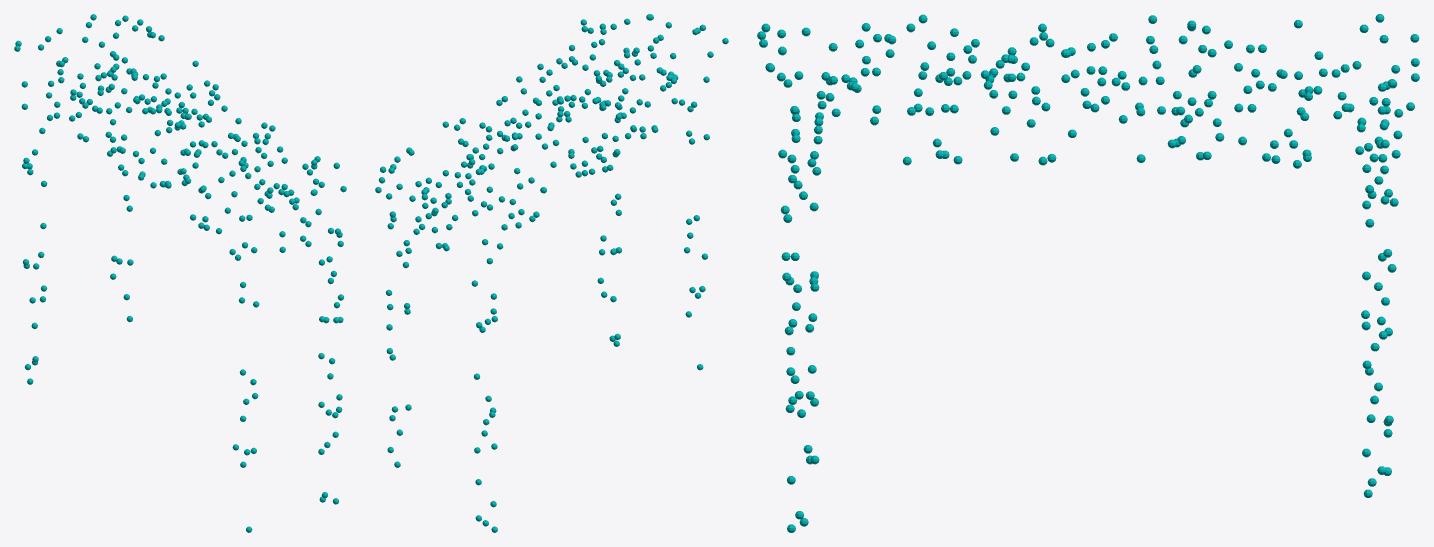
3 renders of one model, left to right at view 1: azimuth 30°, elevation 25°; view 2: azimuth 150°, elevation 25°; view 3: azimuth 270°, elevation 25°, orthographic. The views are drawn at different scales.
Bounding box in the file's own units: 0.3088 × 0.7966 × 1.02.
